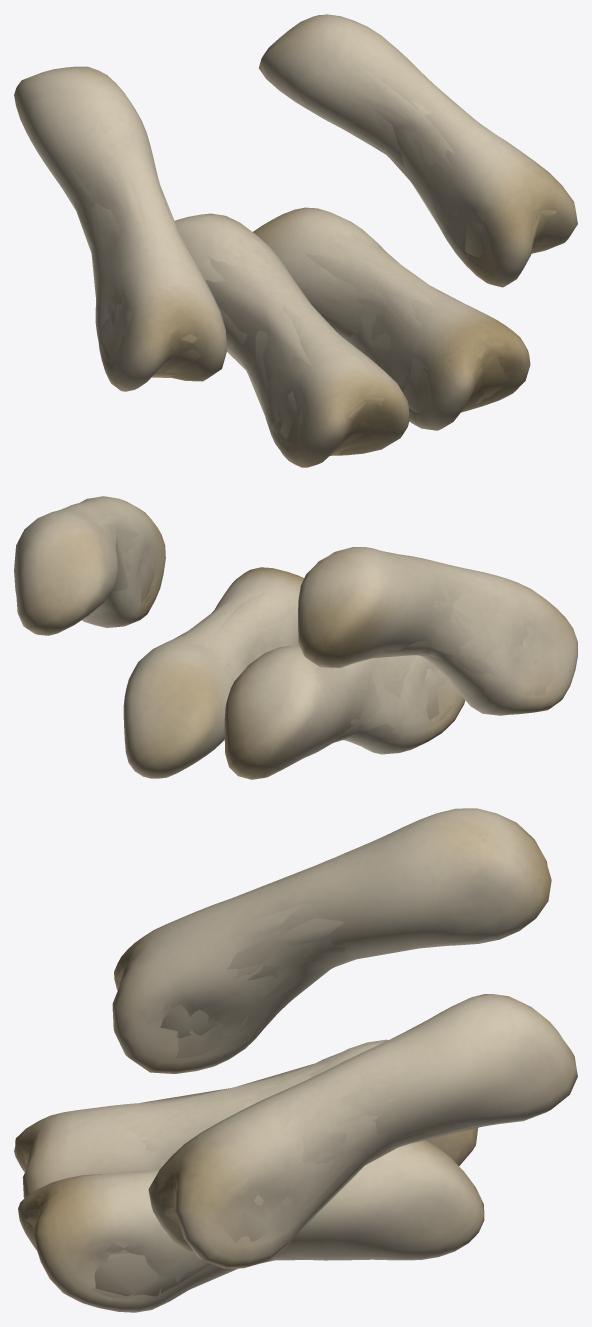
The model's file is BL 1st Phalanx.fbx.
The picture shows the model from 3 angles, top to bottom: view 1: azimuth 30°, elevation 25°; view 2: azimuth 150°, elevation 25°; view 3: azimuth 270°, elevation 25°; orthographic projection. The views are drawn at different scales.
Visible parts, largest first — view 1: BL 1st Phalanx high, BL 1st Phalanx low, BL 1st Phalanx; view 2: BL 1st Phalanx high, BL 1st Phalanx, BL 1st Phalanx low; view 3: BL 1st Phalanx high, BL 1st Phalanx, BL 1st Phalanx low.
Part boxes in pixels (bbox=[...]): BL 1st Phalanx high: bbox=[14, 14, 577, 467]; BL 1st Phalanx low: bbox=[64, 62, 556, 455]; BL 1st Phalanx: bbox=[29, 48, 563, 454]; BL 1st Phalanx high: bbox=[14, 496, 577, 779]; BL 1st Phalanx: bbox=[70, 507, 555, 771]; BL 1st Phalanx low: bbox=[92, 510, 536, 750]; BL 1st Phalanx high: bbox=[14, 808, 577, 1312]; BL 1st Phalanx: bbox=[20, 839, 538, 1303]; BL 1st Phalanx low: bbox=[19, 835, 485, 1296].
Size of the model in its own units: 6.82 by 4.28 by 5.9.
